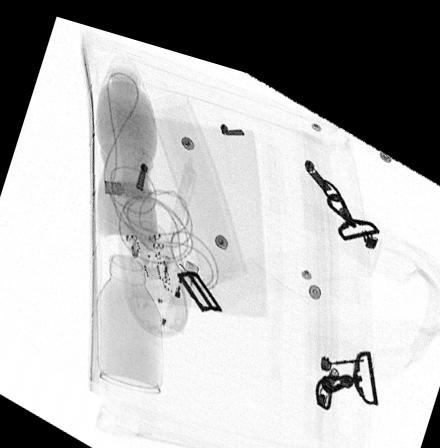Lighter: (160, 245, 199, 321)
